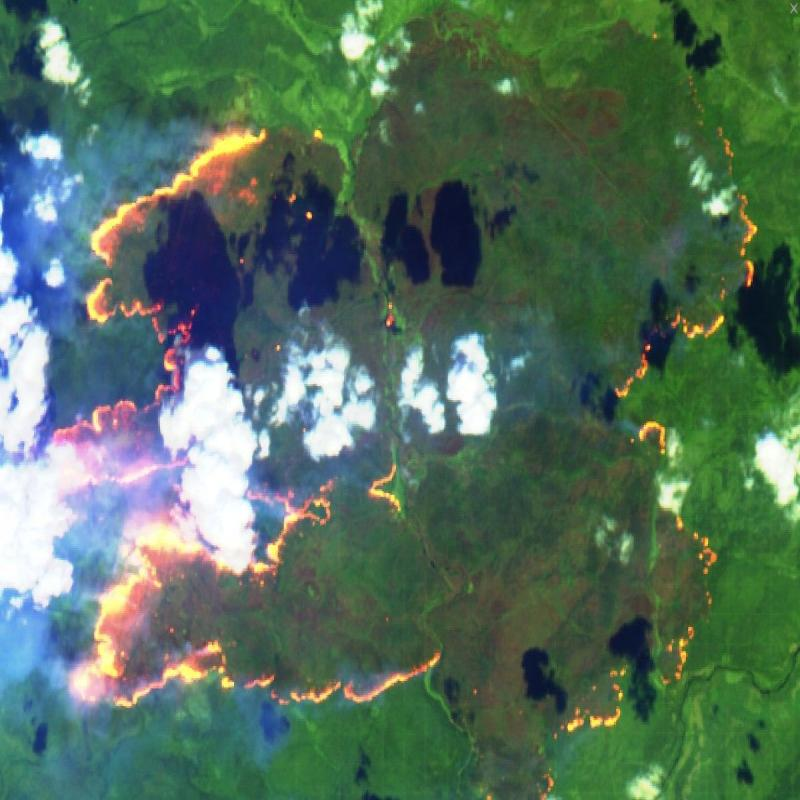fire: (0, 106, 800, 742)
